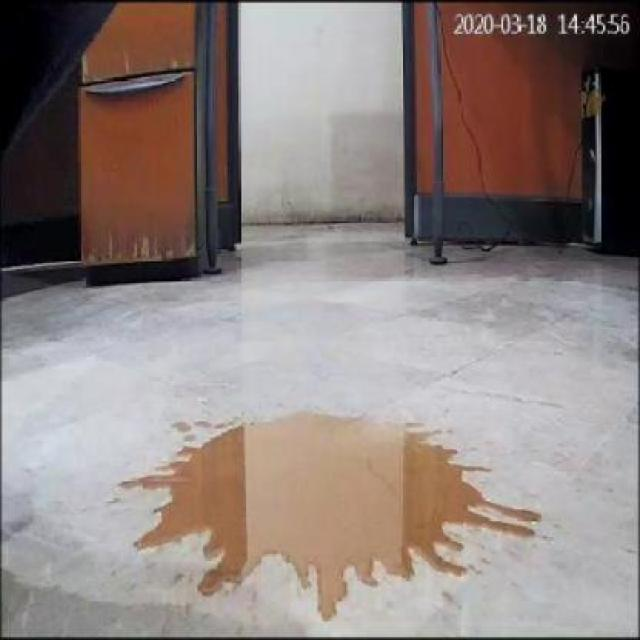spillage: (122, 413, 541, 621)
